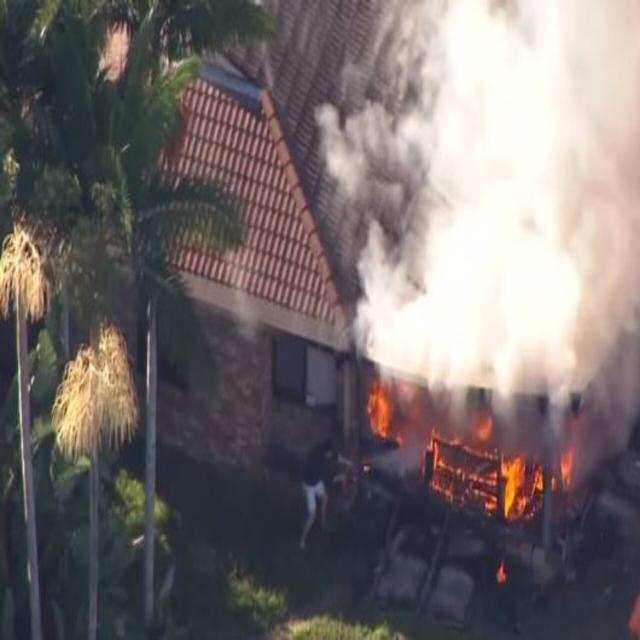Fire: (426, 388, 560, 535), (368, 370, 408, 448)
Smoke: (356, 0, 640, 490)
